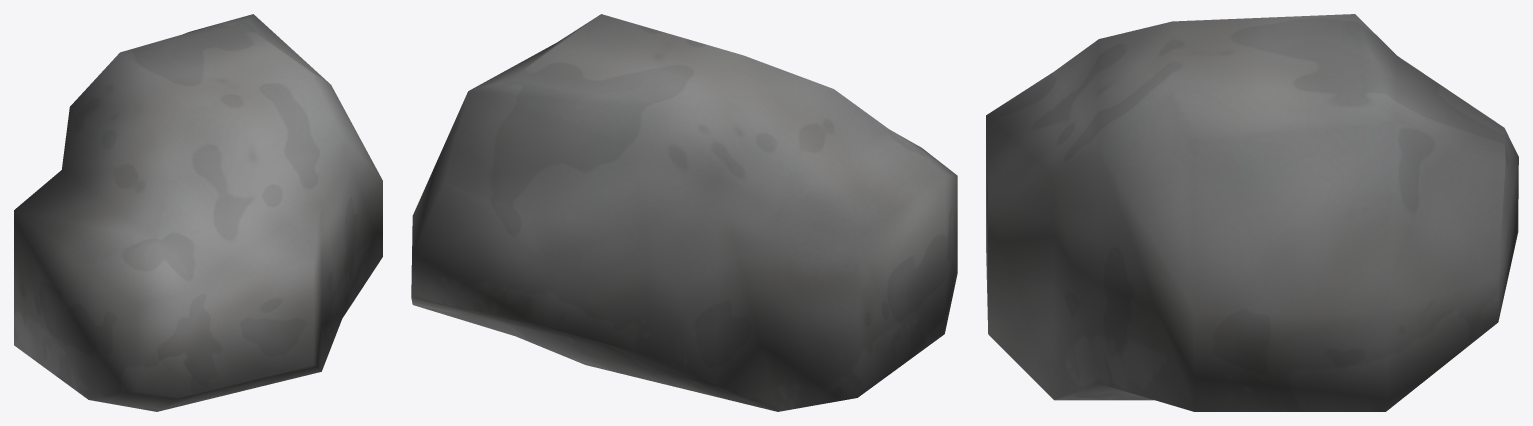
Rendered from rock_3.fbx.
3 views of the same model, side by side, from view 1: azimuth 30°, elevation 25°; view 2: azimuth 150°, elevation 25°; view 3: azimuth 270°, elevation 25° (orthographic). The views are drawn at different scales.
Parts seen in each view (by area): view 1: Roxk_02; view 2: Roxk_02; view 3: Roxk_02.
Boxes of the visible parts, bbox=[...] form: Roxk_02: bbox=[14, 14, 382, 411]; Roxk_02: bbox=[411, 14, 957, 411]; Roxk_02: bbox=[986, 14, 1518, 411].
Size of the model in its own units: 205 by 148 by 216.
Materials: 1 (1 with a texture image).
